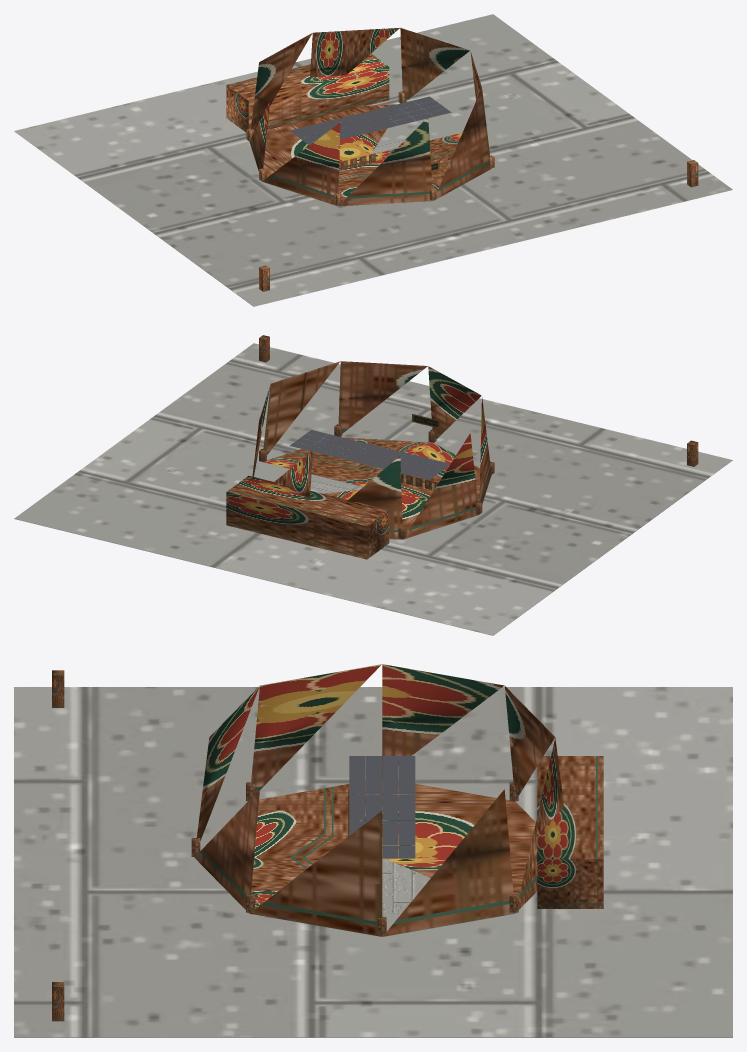
3 views of the same model, one above another, from view 1: azimuth 30°, elevation 25°; view 2: azimuth 150°, elevation 25°; view 3: azimuth 270°, elevation 25° (orthographic). The views are drawn at different scales.
Parts seen in each view (by area): view 1: 11710_01_05540_013_01_L2__base, 11710_01_05540_013_02_L2__body, 11710_01_05540_013_03_L2__roof, 11710_01_05540_013_06_L2__green; view 2: 11710_01_05540_013_01_L2__base, 11710_01_05540_013_02_L2__body, 11710_01_05540_013_03_L2__roof, 11710_01_05540_013_06_L2__green; view 3: 11710_01_05540_013_01_L2__base, 11710_01_05540_013_02_L2__body, 11710_01_05540_013_03_L2__roof, 11710_01_05540_013_06_L2__green.
Part boxes in pixels (x1=…): 11710_01_05540_013_01_L2__base: x1=14, y1=14, x2=732, y2=306; 11710_01_05540_013_02_L2__body: x1=226, y1=27, x2=494, y2=206; 11710_01_05540_013_03_L2__roof: x1=290, y1=96, x2=451, y2=145; 11710_01_05540_013_06_L2__green: x1=259, y1=160, x2=698, y2=291; 11710_01_05540_013_01_L2__base: x1=14, y1=343, x2=732, y2=635; 11710_01_05540_013_02_L2__body: x1=226, y1=361, x2=494, y2=559; 11710_01_05540_013_03_L2__roof: x1=289, y1=430, x2=450, y2=479; 11710_01_05540_013_06_L2__green: x1=259, y1=335, x2=698, y2=466; 11710_01_05540_013_01_L2__base: x1=14, y1=687, x2=732, y2=1037; 11710_01_05540_013_02_L2__body: x1=191, y1=664, x2=603, y2=936; 11710_01_05540_013_03_L2__roof: x1=349, y1=756, x2=415, y2=858; 11710_01_05540_013_06_L2__green: x1=52, y1=670, x2=64, y2=1021.
Bounding box in the file's own units: 150 × 25 × 130.
Materials: 5 (5 with a texture image).
